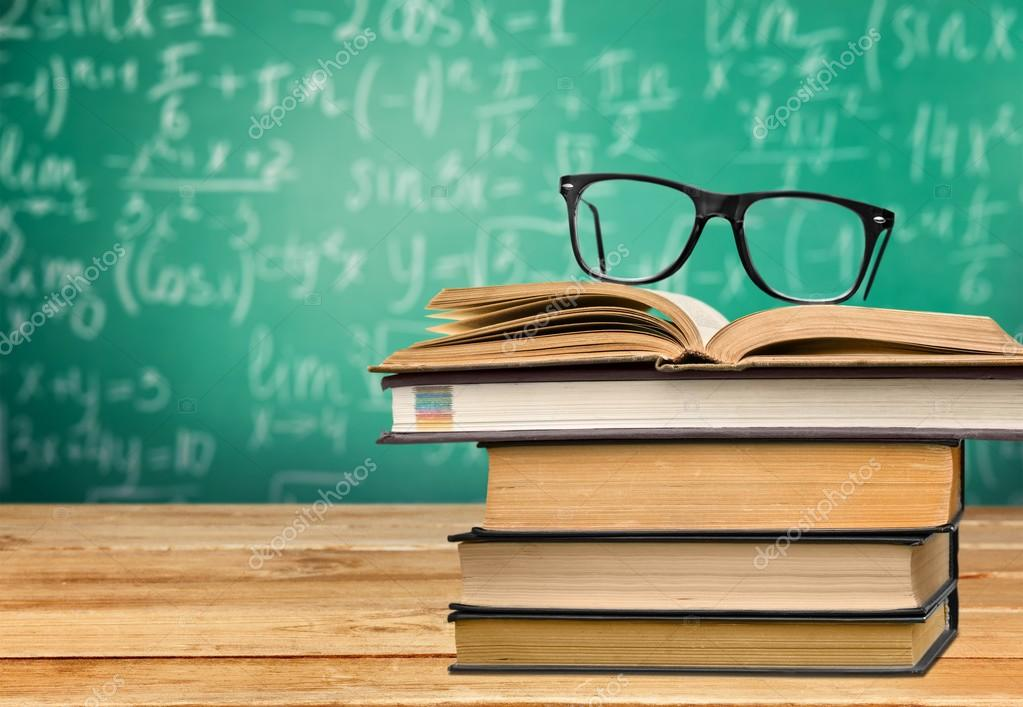book: (374, 247, 1021, 692)
